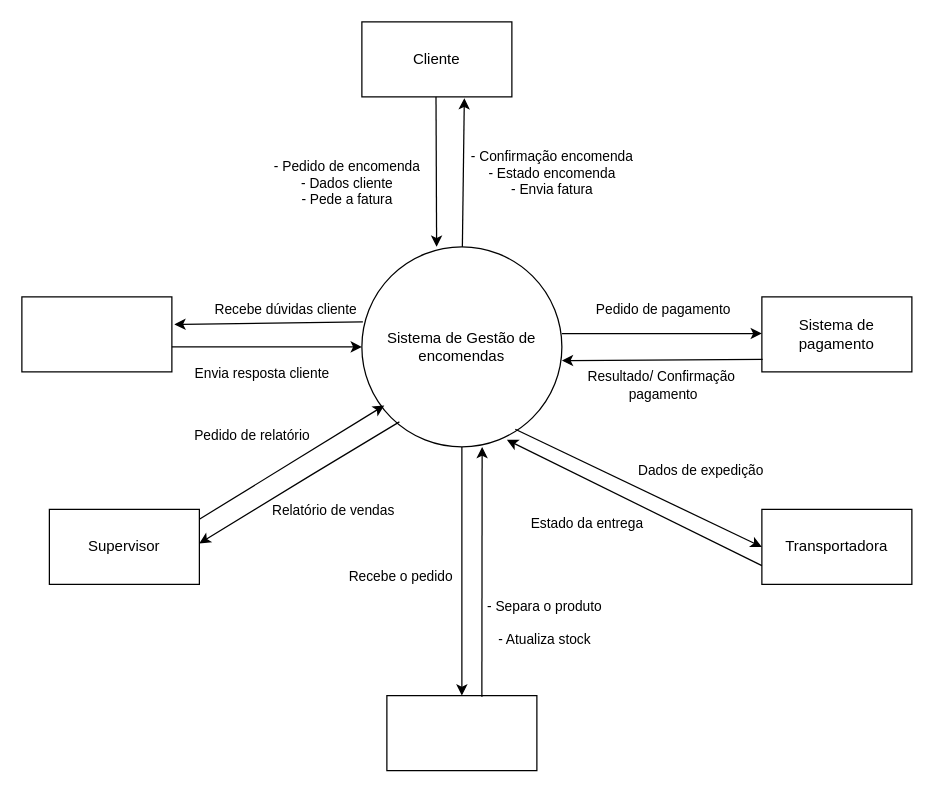
The diagram is 934 pixels wide and 793 high, and some of its shapes have lost their labels. Each missing label, with the centre of its shape:
Assistente de vendas: [96,334]
Operador de armazém: [461,732]
